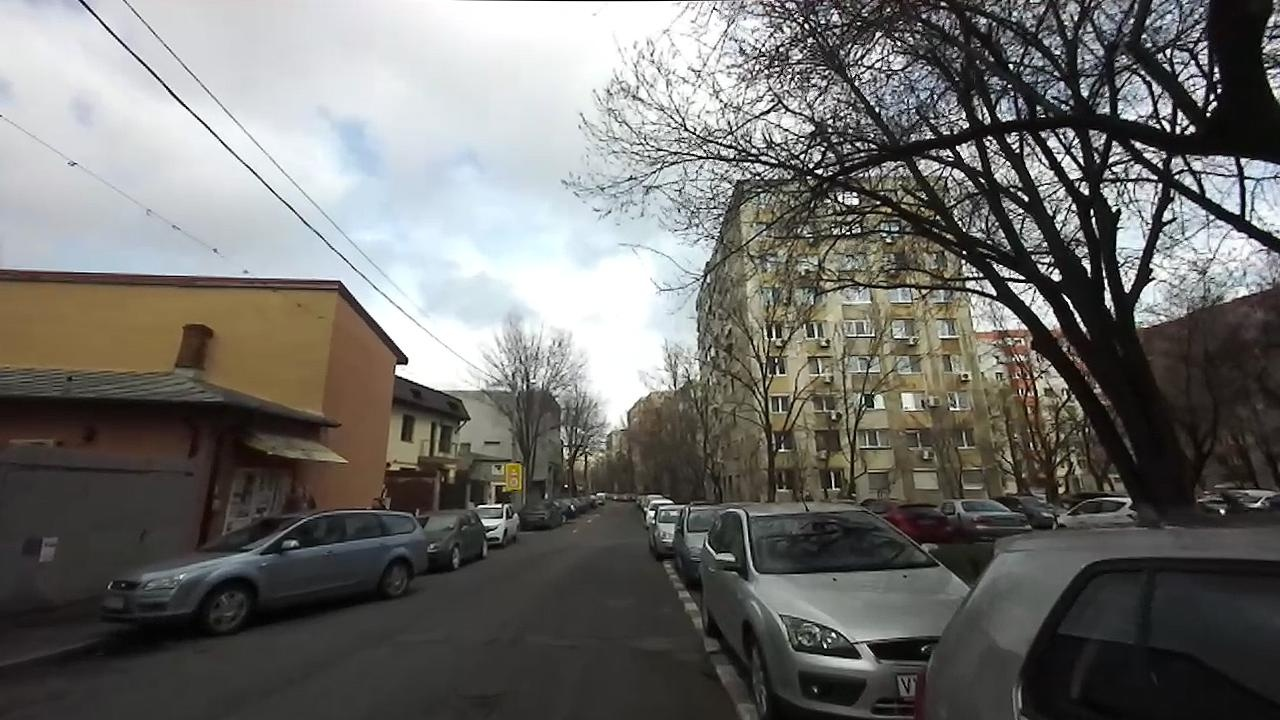pothole: (442, 688, 507, 720), (701, 669, 718, 683)
